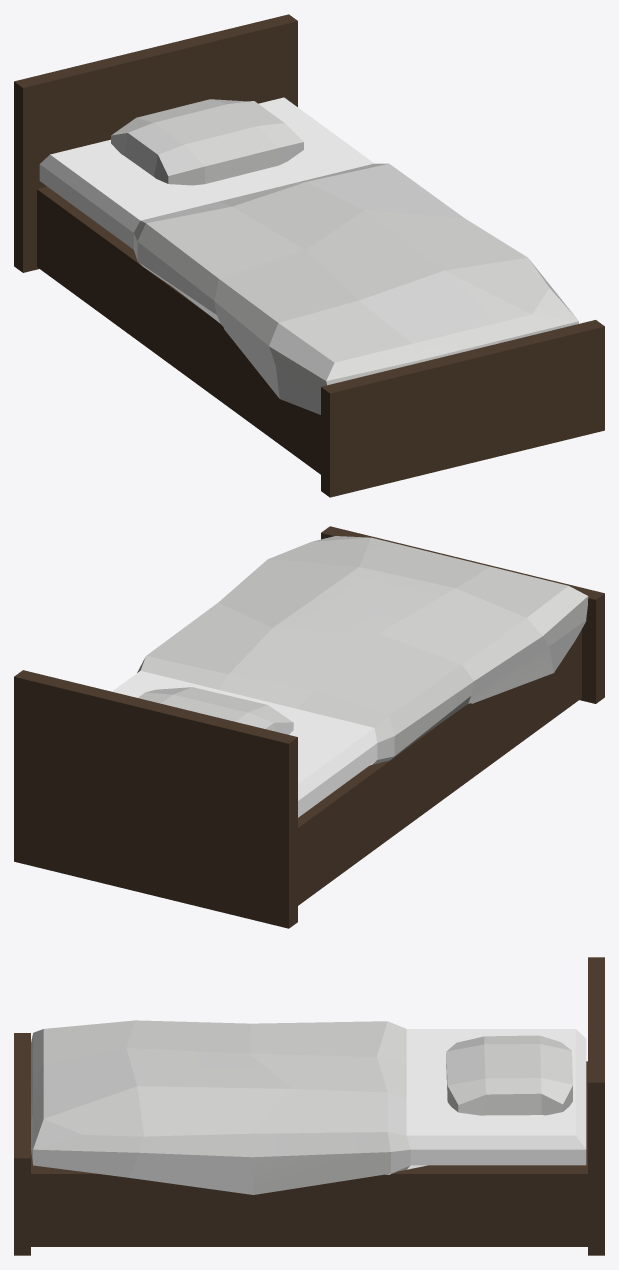
Rendered from furniture_bed-single-modern.fbx.
3 views of the same model, one above another, from view 1: azimuth 30°, elevation 25°; view 2: azimuth 150°, elevation 25°; view 3: azimuth 270°, elevation 25° (orthographic). The views are drawn at different scales.
Parts seen in each view (by area): view 1: furniture_bed_single_modern; view 2: furniture_bed_single_modern; view 3: furniture_bed_single_modern.
Boxes of the visible parts, <box> form: furniture_bed_single_modern: <box>14,14,604,497</box>; furniture_bed_single_modern: <box>14,526,604,928</box>; furniture_bed_single_modern: <box>14,957,604,1255</box>.
Size of the model in its own units: 101 by 64.58 by 200.
